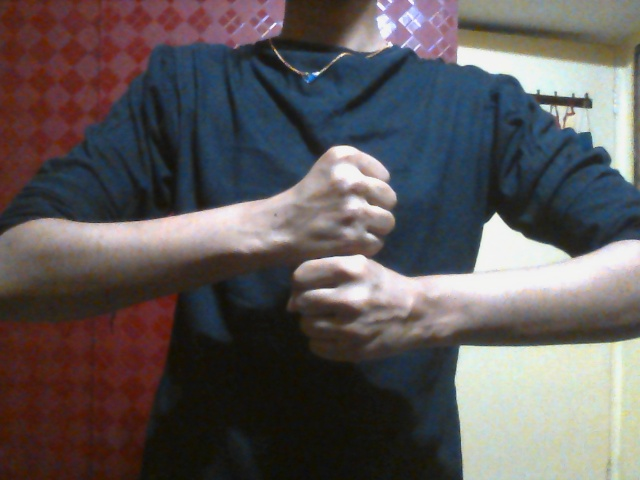G: (285, 142, 427, 366)
